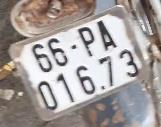0: (32, 76, 63, 116)
1: (54, 70, 79, 107)
3: (115, 44, 143, 81)
6: (71, 62, 99, 98), (29, 40, 56, 77), (44, 34, 71, 70)
7: (95, 53, 121, 90)
A: (93, 15, 121, 55)
P: (75, 23, 102, 60)
